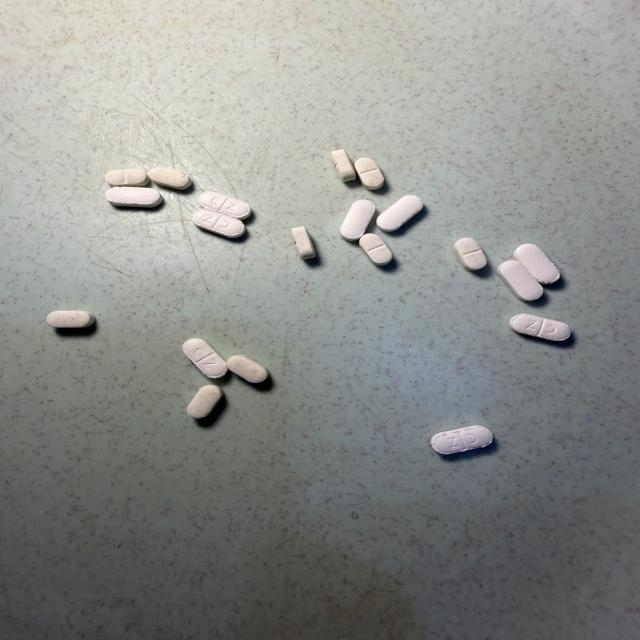pill: (514, 244, 560, 284), (498, 261, 543, 301), (431, 426, 493, 454), (183, 339, 227, 378), (377, 195, 423, 231), (510, 314, 570, 341), (192, 209, 245, 238), (199, 192, 251, 219), (340, 200, 375, 240), (187, 385, 223, 418), (227, 355, 268, 383), (106, 187, 162, 207), (454, 238, 486, 270), (360, 234, 392, 265), (148, 167, 191, 189), (355, 158, 384, 190), (47, 311, 95, 328), (331, 150, 355, 182), (105, 169, 149, 186), (292, 227, 315, 259)
